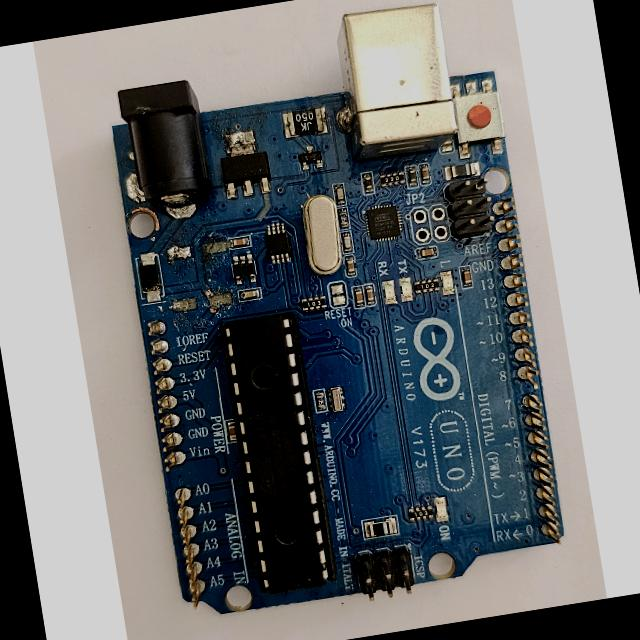missing_analog_pins: (135, 318, 211, 613)
missing_capacitors: (157, 230, 237, 315)
missing_digital_pins: (490, 198, 568, 551)
